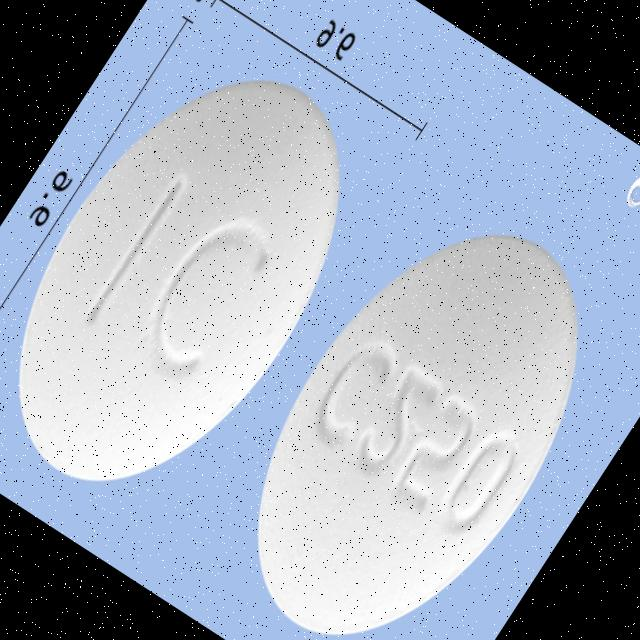Ciroctan - 500mg: (0, 19, 411, 546), (186, 173, 640, 640)
